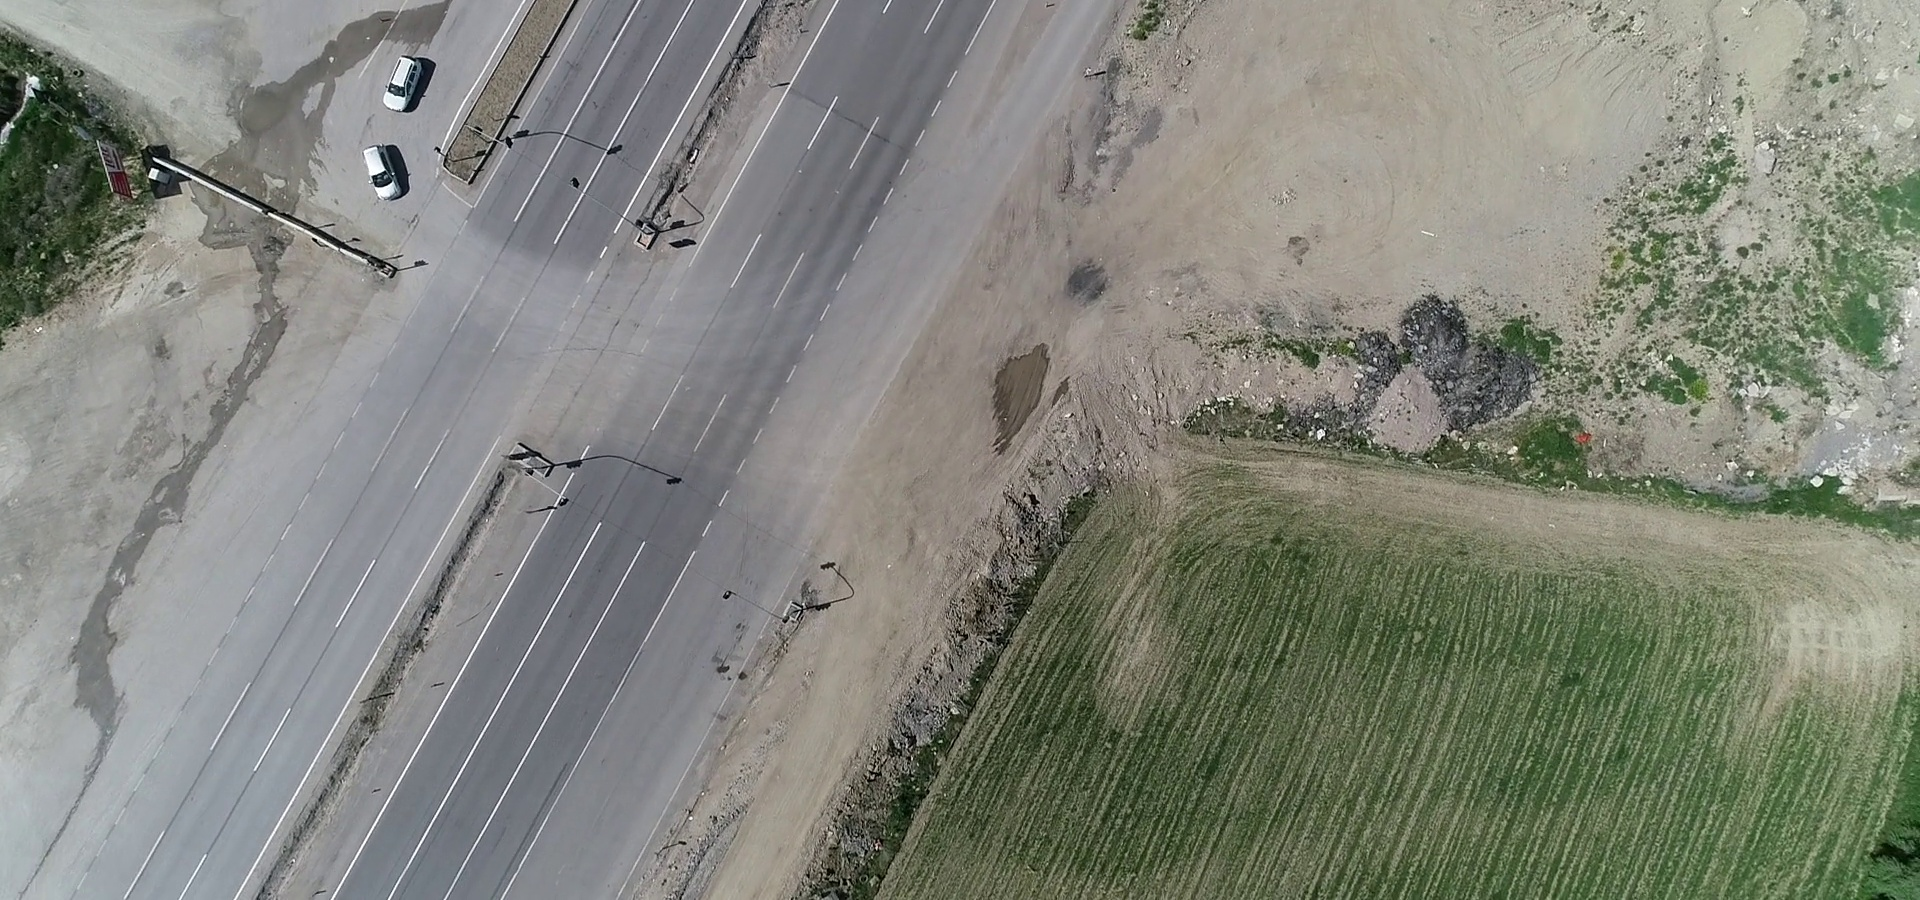arac: (380, 49, 432, 121), (358, 142, 408, 206)
